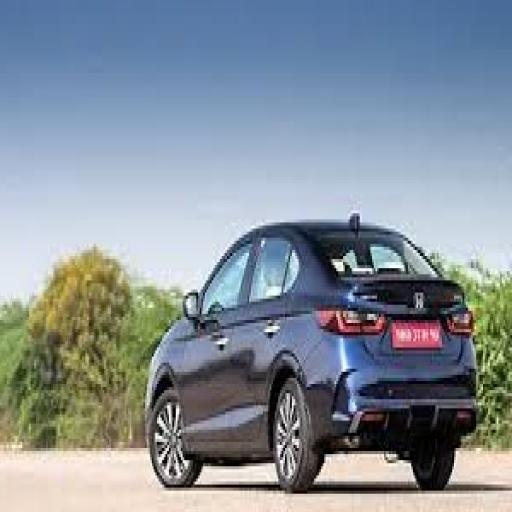License: (388, 312, 444, 350)
